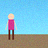person: (6, 13, 17, 39)
